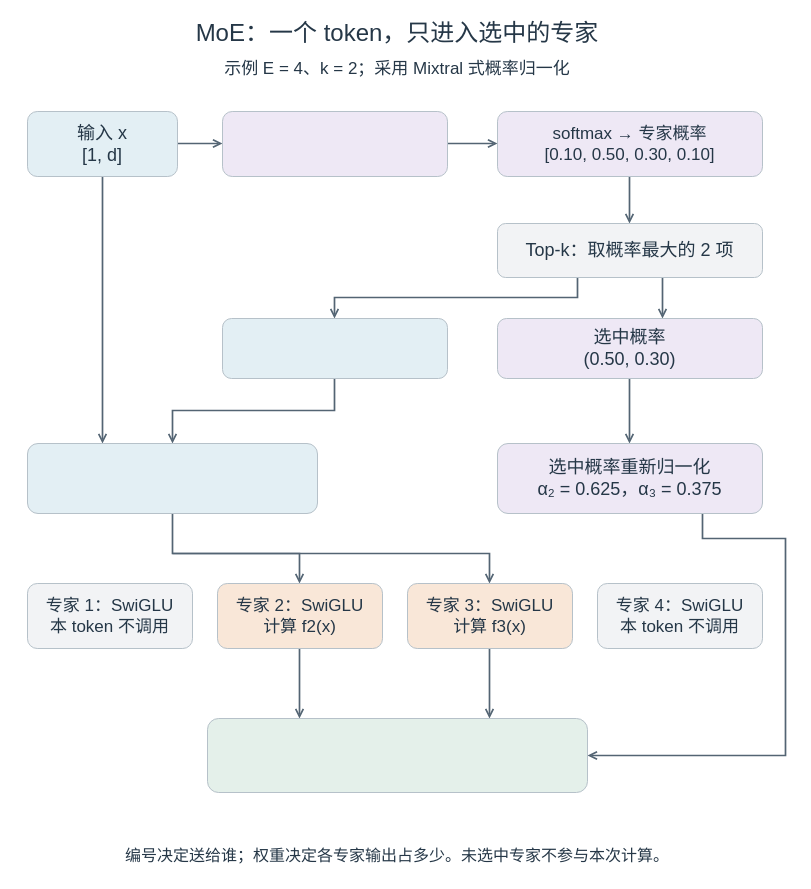
Some shapes in this 811 by 889 pixel diagram are drawn without their labels. Here are the shapes that lost their labels. From the top down, the box of each, then its label:
(222, 110, 448, 176): Router：x W r W r [d, E]
(222, 318, 448, 378): 选中编号：(2, 3) 整数，取值 1 到 4
(26, 442, 318, 514): Dispatch：按编号 (2, 3) 把同一个 x 送给专家 2、3
(206, 718, 588, 792): Gather：按权重相加 y = 0.625 f₂(x) + 0.375 f₃(x)
